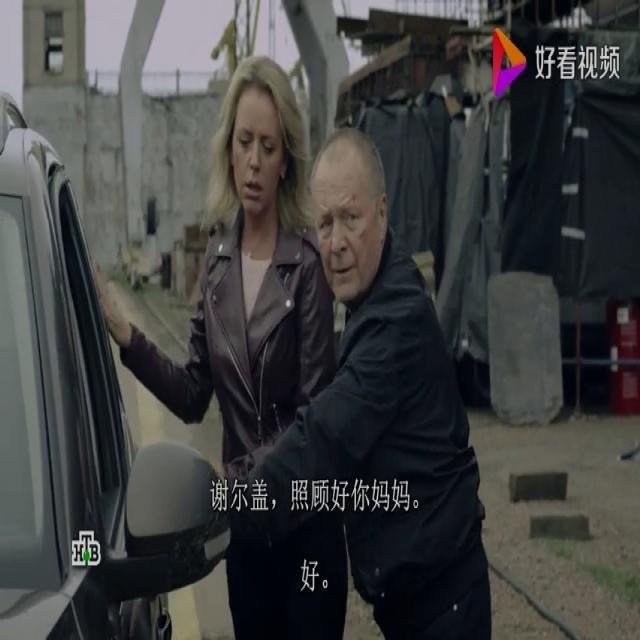non-fight: (224, 49, 513, 639), (88, 47, 349, 639)
